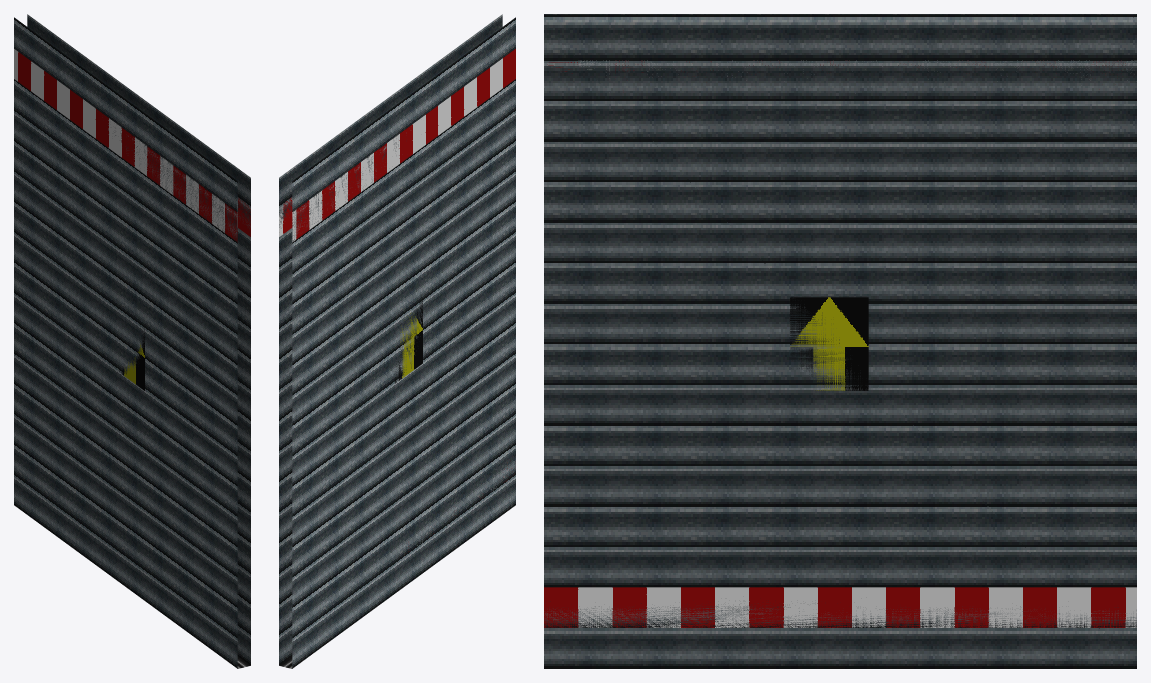
Rendered from primary_124.glb.
3 views of the same model, side by side, from view 1: azimuth 30°, elevation 25°; view 2: azimuth 150°, elevation 25°; view 3: azimuth 270°, elevation 25° (orthographic). The views are drawn at different scales.
Parts seen in each view (by area): view 1: Object; view 2: Object; view 3: Object.
Boxes of the visible parts, left/top/right/bottom form: Object: left=14, top=14, right=250, bottom=668; Object: left=279, top=14, right=515, bottom=668; Object: left=544, top=14, right=1136, bottom=668.
Bounding box in the file's own units: 0.1035 × 3.68 × 3.05.
Materials: 6 (6 with a texture image).
